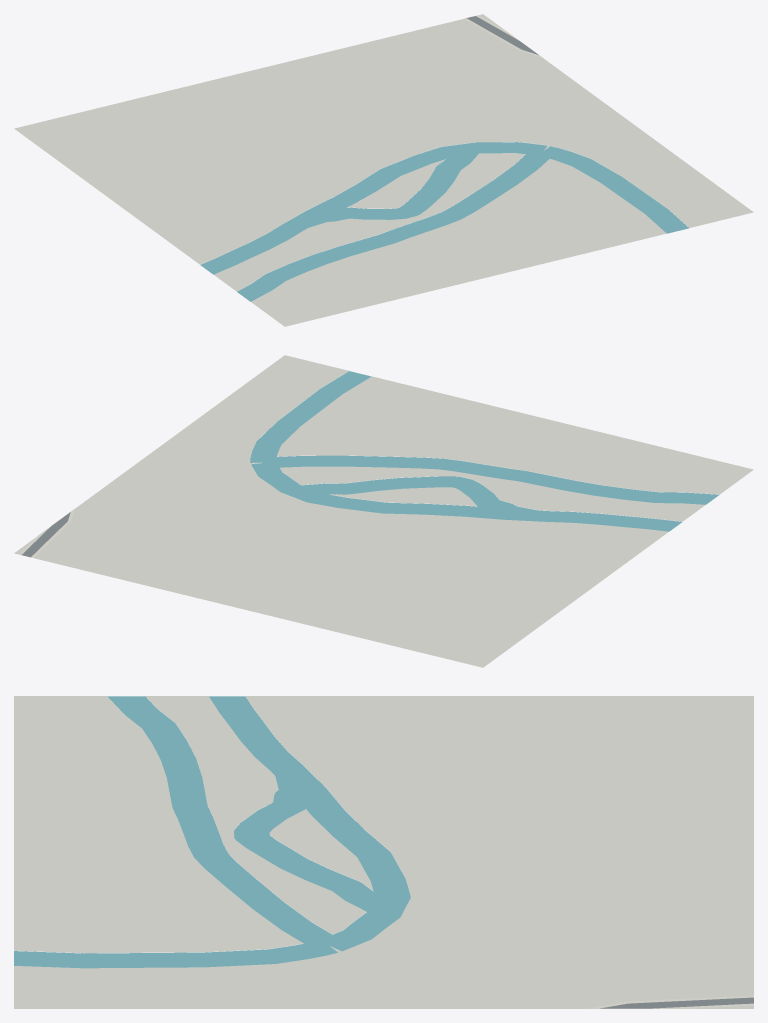
The picture shows the model from 3 angles, top to bottom: view 1: azimuth 30°, elevation 25°; view 2: azimuth 150°, elevation 25°; view 3: azimuth 270°, elevation 25°; orthographic projection. The views are drawn at different scales.
Parts seen in each view (by area): view 1: city; view 2: city; view 3: city.
Boxes of the visible parts, <box> form: city: <box>14,14,753,326</box>; city: <box>14,355,753,667</box>; city: <box>14,696,753,1008</box>.
Bounding box in the file's own units: 500 × 0.4 × 500.
